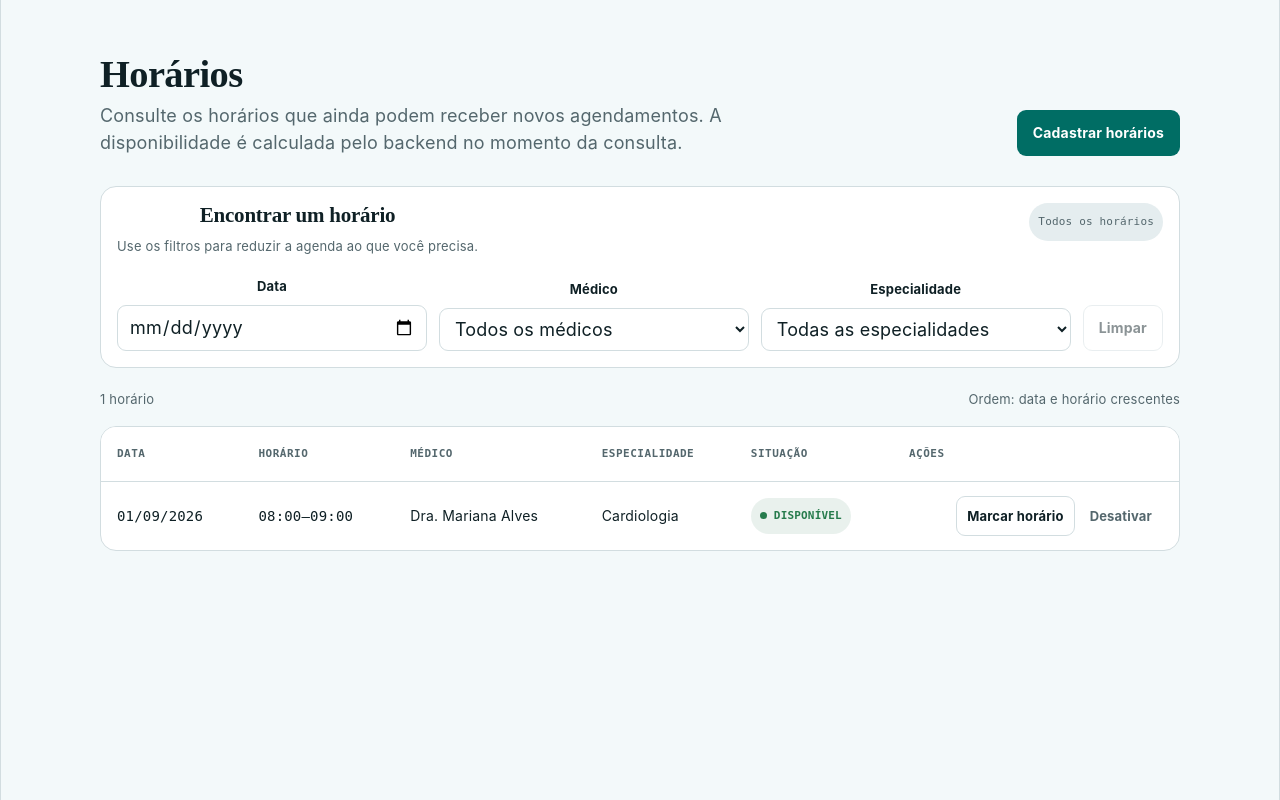
Scenario: HorariosPage › desativação de horário › fluxo: abre modal, confirma → fecha modal, toast, lista atualizada
This screenshot has width=1280, height=800.
Step 1. Click the button "Desativar" → (1121, 516), box [1079,496,1163,536]
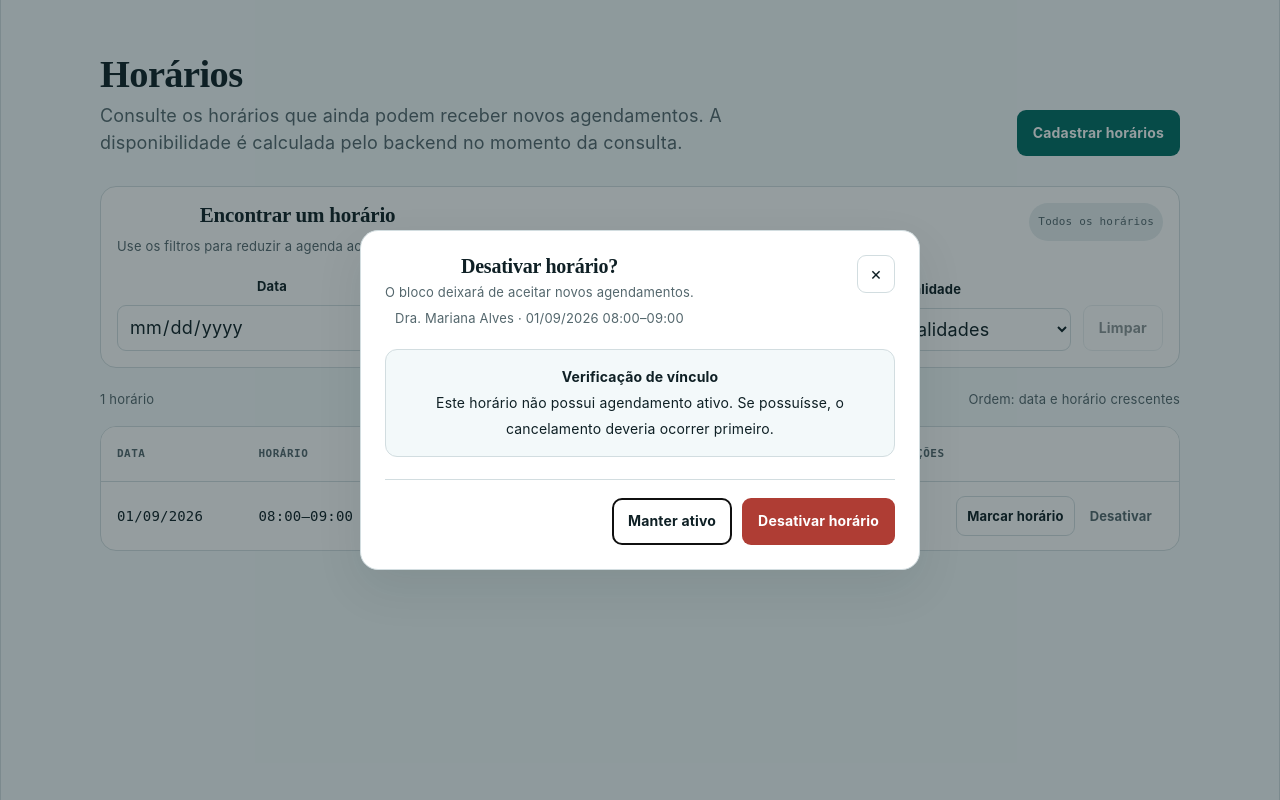
Step 2. Click the button "Desativar horário" → (819, 522), box [742,498,895,545]
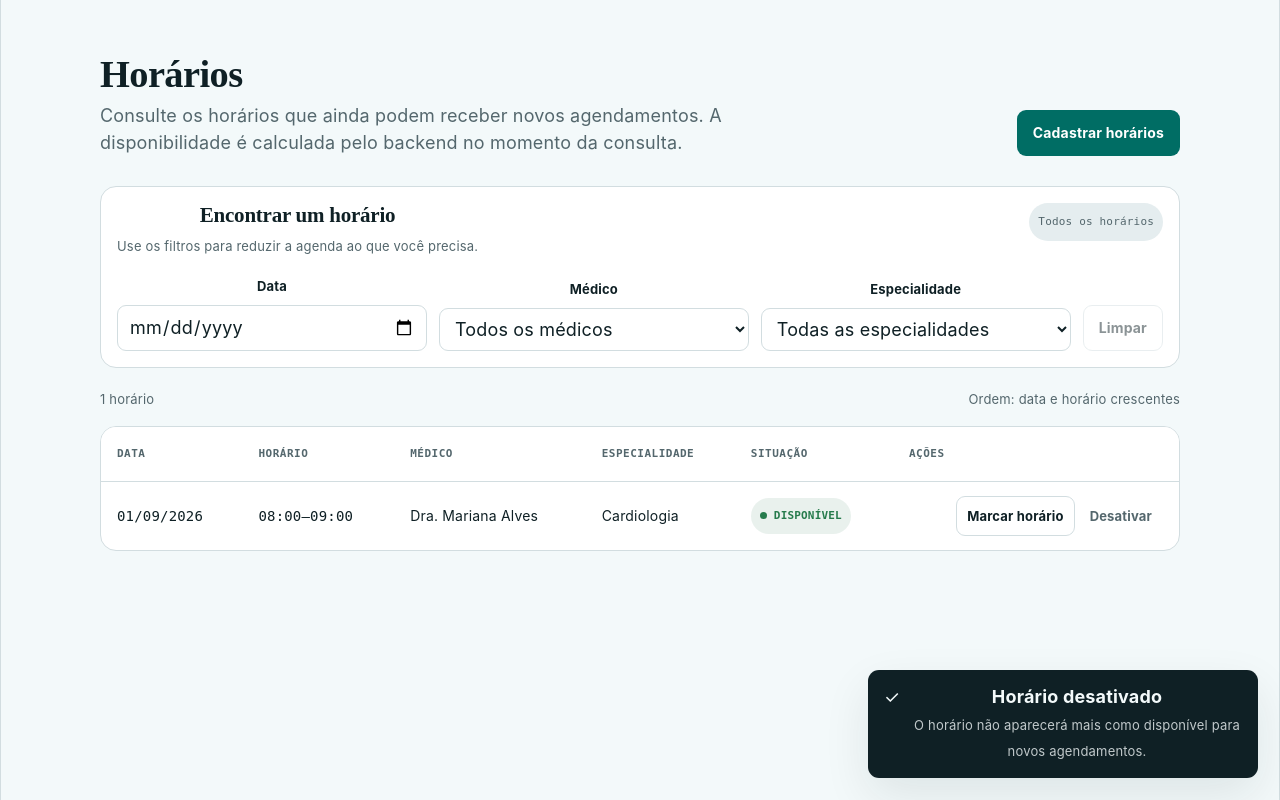
Expected: the text "Horário desativado" is shown, [992,686,1162,707]
